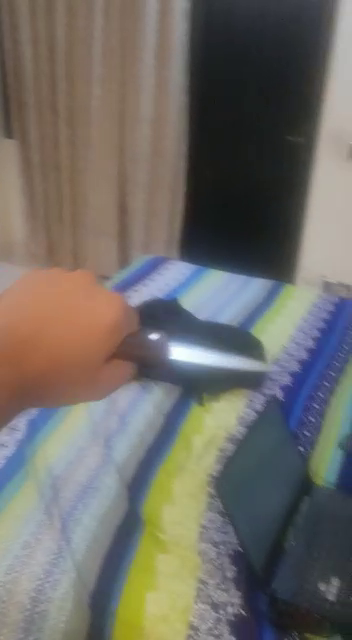knife: (6, 255, 293, 434)
